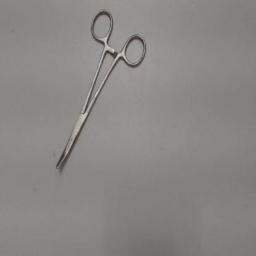Crile Artery Forceps: (52, 5, 148, 175)
